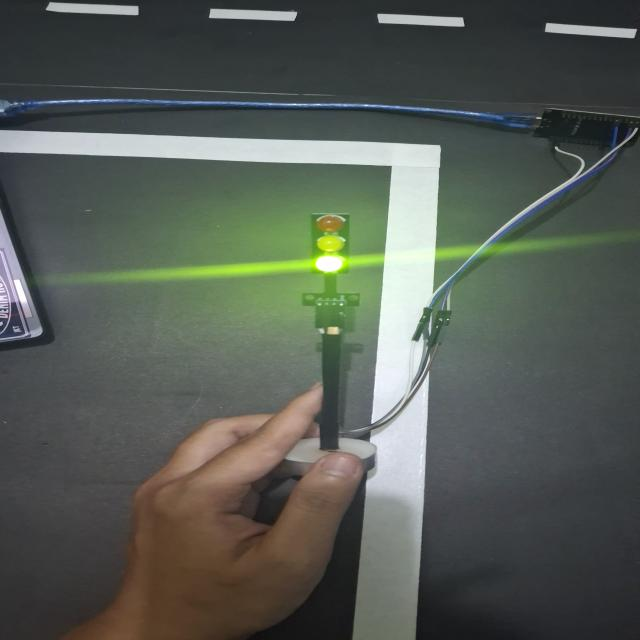Lampu Hijau: (308, 212, 352, 276)
